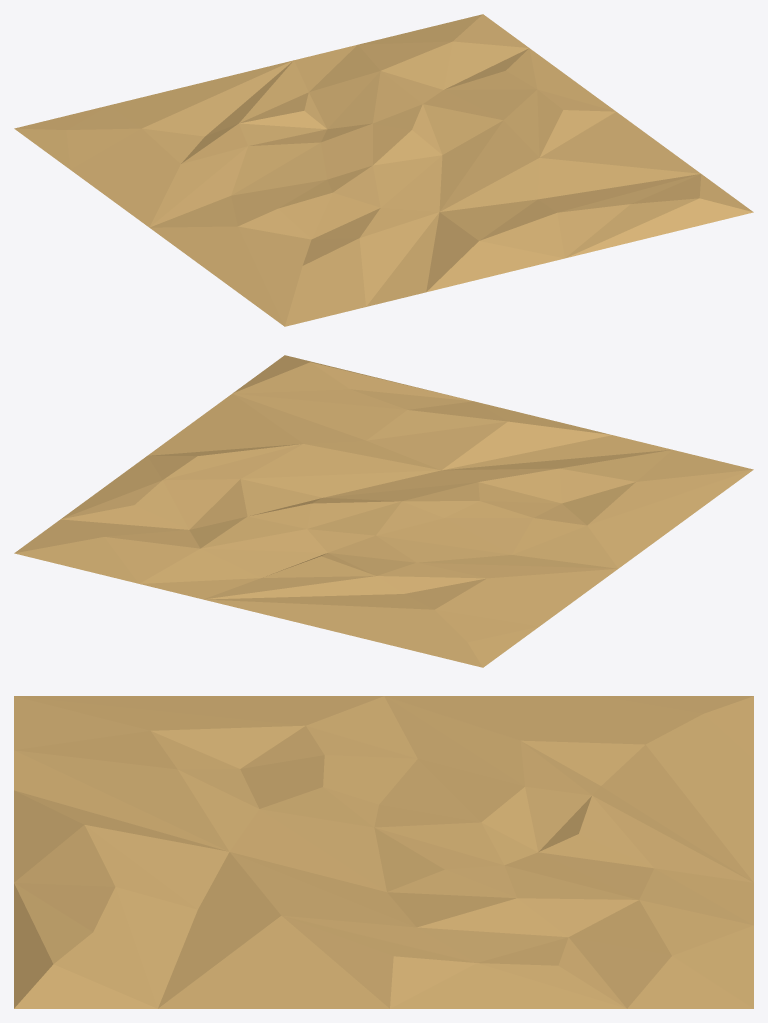
File: TB_D_Env_Tile_Sand_B.FBX
3 views of the same model, one above another, from view 1: azimuth 30°, elevation 25°; view 2: azimuth 150°, elevation 25°; view 3: azimuth 270°, elevation 25° (orthographic). The views are drawn at different scales.
Parts seen in each view (by area): view 1: TB_D_Env_Tile_Sand_B; view 2: TB_D_Env_Tile_Sand_B; view 3: TB_D_Env_Tile_Sand_B.
Part boxes in pixels (left/top/right/bottom): TB_D_Env_Tile_Sand_B: left=14, top=14, right=753, bottom=326; TB_D_Env_Tile_Sand_B: left=14, top=355, right=753, bottom=667; TB_D_Env_Tile_Sand_B: left=14, top=696, right=753, bottom=1008.
Size of the model in its own units: 20 by 0.5404 by 20.
